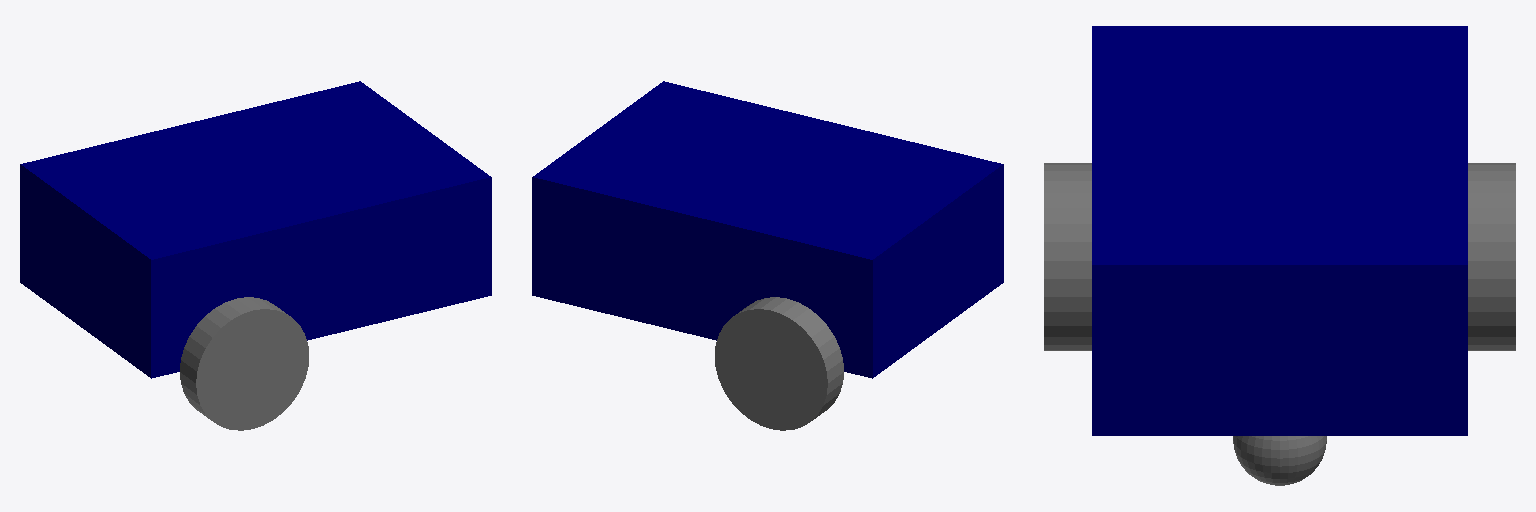
robot.urdf — my_robot:
<?xml version="1.0" ?>
<!-- =================================================================================== -->
<!-- |    This document was autogenerated by xacro from src/my_robot_description/urdf_course/my_robot.urdf.xacro | -->
<!-- |    EDITING THIS FILE BY HAND IS NOT RECOMMENDED                                 | -->
<!-- =================================================================================== -->
<robot name="my_robot">
  <material name="blue">
    <color rgba="0 0 0.5 1"/>
  </material>
  <material name="grey">
    <color rgba="0.5 0.5 0.5 1"/>
  </material>
  <link name="base_footprint"/>
  <link name="base_link">
    <visual>
      <geometry>
        <box size="0.6 0.4 0.2"/>
      </geometry>
      <origin rpy="0 0 0" xyz="0 0 0.1"/>
      <material name="blue"/>
    </visual>
    <inertial>
      <origin rpy="0 0 0" xyz="0 0 0.1"/>
      <mass value="5.0"/>
      <inertia ixx="0.16666666666666669" ixy="0" ixz="0" iyy="0.21666666666666667" iyz="0" izz="0.08333333333333336"/>
    </inertial>
  </link>
  <link name="right_wheel_link">
    <visual>
      <geometry>
        <cylinder length="0.05" radius="0.1"/>
      </geometry>
      <origin rpy="1.5707963267948966 0 0" xyz="0 0 0"/>
      <material name="grey"/>
    </visual>
    <inertial>
      <origin rpy="1.5707963267948966 0 0" xyz="0 0 0"/>
      <mass value="1.0"/>
      <inertia ixx="0.002708333333333334" ixy="0" ixz="0" iyy="0.002708333333333334" iyz="0" izz="0.005000000000000001"/>
    </inertial>
  </link>
  <link name="left_wheel_link">
    <visual>
      <geometry>
        <cylinder length="0.05" radius="0.1"/>
      </geometry>
      <origin rpy="1.5707963267948966 0 0" xyz="0 0 0"/>
      <material name="grey"/>
    </visual>
    <inertial>
      <origin rpy="1.5707963267948966 0 0" xyz="0 0 0"/>
      <mass value="1.0"/>
      <inertia ixx="0.002708333333333334" ixy="0" ixz="0" iyy="0.002708333333333334" iyz="0" izz="0.005000000000000001"/>
    </inertial>
  </link>
  <link name="caster_wheel_link">
    <visual>
      <geometry>
        <sphere radius="0.05"/>
      </geometry>
      <origin rpy="0 0 0" xyz="0 0 0"/>
      <material name="grey"/>
    </visual>
    <inertial>
      <origin rpy="0 0 0" xyz="0 0 0"/>
      <mass value="0.5"/>
      <inertia ixx="0.0005000000000000001" ixy="0" ixz="0" iyy="0.0005000000000000001" iyz="0" izz="0.0005000000000000001"/>
    </inertial>
  </link>
  <joint name="base_joint" type="fixed">
    <parent link="base_footprint"/>
    <child link="base_link"/>
    <origin rpy="0 0 0" xyz="0 0 0.1"/>
  </joint>
  <joint name="base_right_wheel_joint" type="continuous">
    <parent link="base_link"/>
    <child link="right_wheel_link"/>
    <origin rpy="0 0 0" xyz="-0.15 -0.225 0"/>
    <axis xyz="0 1 0"/>
  </joint>
  <joint name="base_left_wheel_joint" type="continuous">
    <parent link="base_link"/>
    <child link="left_wheel_link"/>
    <origin rpy="0 0 0" xyz="-0.15 0.225 0"/>
    <axis xyz="0 1 0"/>
  </joint>
  <joint name="base_caster_wheel_joint" type="fixed">
    <parent link="base_link"/>
    <child link="caster_wheel_link"/>
    <origin rpy="0 0 0" xyz="0.19999999999999998 0 -0.05"/>
  </joint>
</robot>

--- Render facts (derived) ---
3 views of the same robot in one strip: view 1: azimuth 30°, elevation 25°; view 2: azimuth 150°, elevation 25°; view 3: azimuth 270°, elevation 25° (orthographic).
Robot: my_robot — 5 links, 4 joints (2 continuous, 2 fixed); root link base_footprint; default pose: all joints at 0.
Visible links, largest first — view 1: base_link, right_wheel_link; view 2: base_link, left_wheel_link; view 3: base_link, right_wheel_link, left_wheel_link, caster_wheel_link.
Link boxes in pixels (box(x1,y1,x2,y2)): base_link: box(20, 81, 491, 378); right_wheel_link: box(180, 297, 308, 430); base_link: box(532, 81, 1003, 378); left_wheel_link: box(715, 297, 843, 430); base_link: box(1092, 26, 1467, 435); right_wheel_link: box(1044, 163, 1091, 350); left_wheel_link: box(1468, 163, 1515, 350); caster_wheel_link: box(1233, 436, 1326, 485).
Bounding box of the posed robot: 0.6 × 0.5 × 0.3 m (x, y, z).
Geometry: primitives only (box / cylinder / sphere), no mesh files.